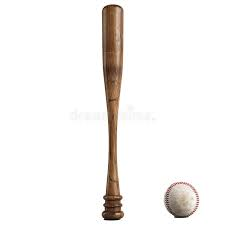baseball bat: (99, 3, 126, 221)
